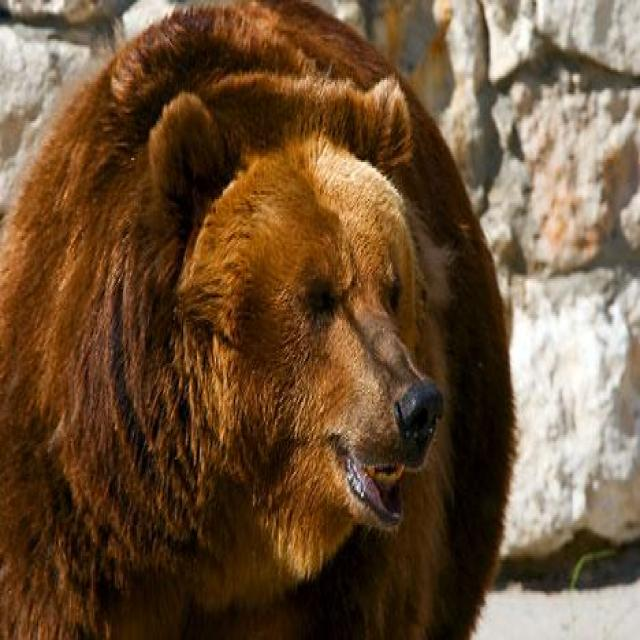Bear: (0, 0, 518, 640)
